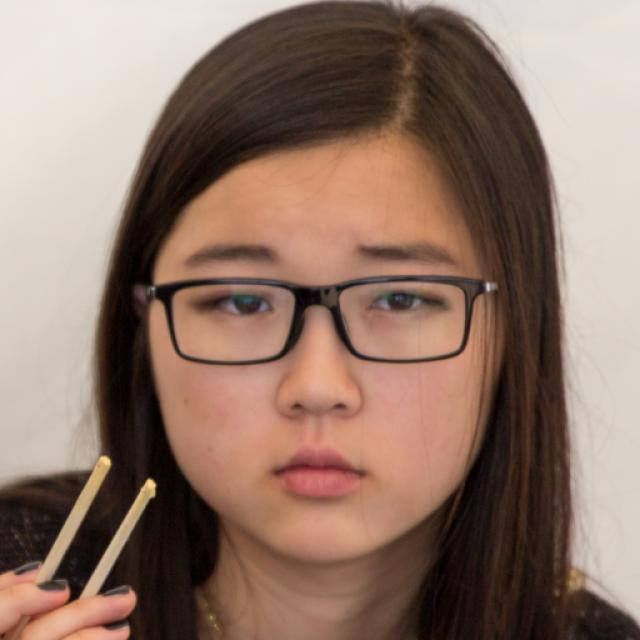sad: (148, 125, 488, 565)
